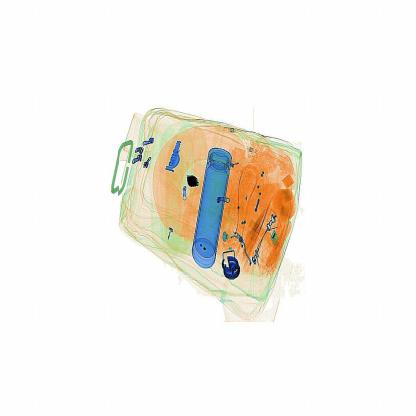scissors: (184, 162, 204, 196)
